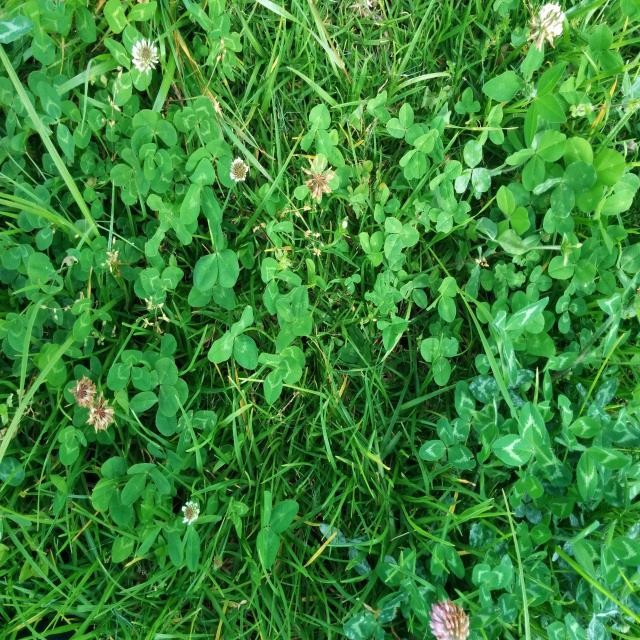Four Leaf Clover: (275, 285, 312, 353)
